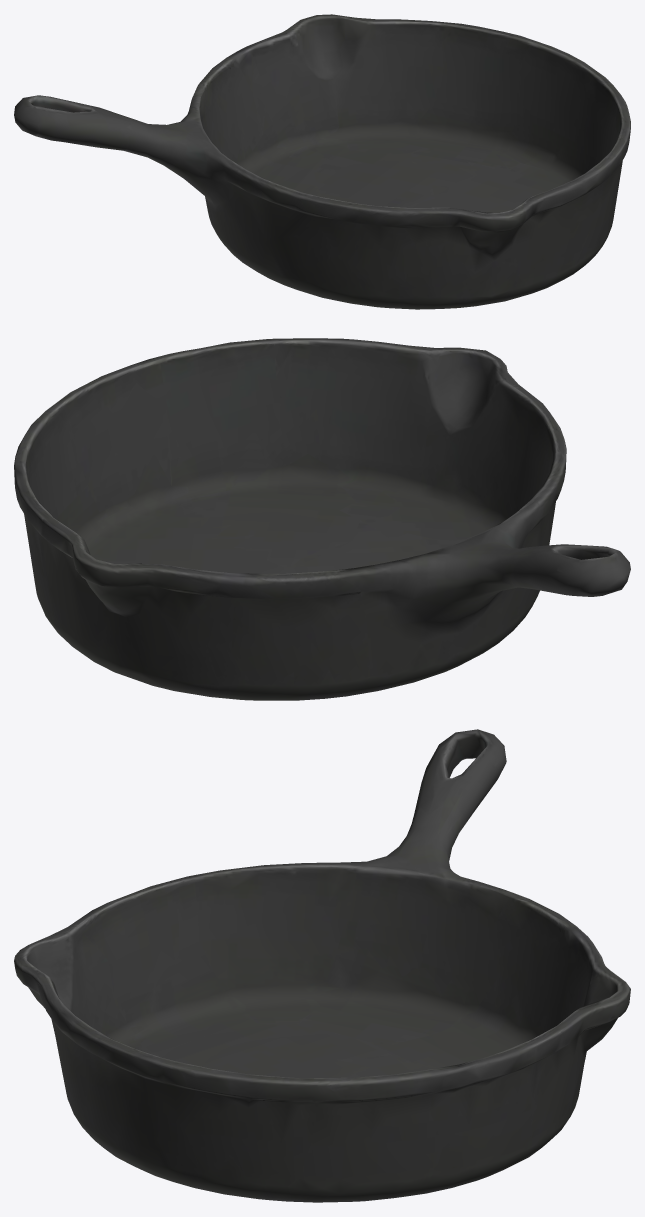
Rendered from SM_Kitchen_Skillet.glb.
The picture shows the model from 3 angles, top to bottom: view 1: azimuth 30°, elevation 25°; view 2: azimuth 150°, elevation 25°; view 3: azimuth 270°, elevation 25°; orthographic projection. The views are drawn at different scales.
Parts seen in each view (by area): view 1: tripo_node_34e68fa3-aab8-4680-a074-43c40f9faff2; view 2: tripo_node_34e68fa3-aab8-4680-a074-43c40f9faff2; view 3: tripo_node_34e68fa3-aab8-4680-a074-43c40f9faff2.
Part boxes in pixels (bbox=[...]): tripo_node_34e68fa3-aab8-4680-a074-43c40f9faff2: bbox=[14, 14, 630, 309]; tripo_node_34e68fa3-aab8-4680-a074-43c40f9faff2: bbox=[14, 338, 630, 700]; tripo_node_34e68fa3-aab8-4680-a074-43c40f9faff2: bbox=[14, 729, 630, 1202].
Size of the model in its own units: 1 by 0.2958 by 0.8525.
1 material, 1 textured.
